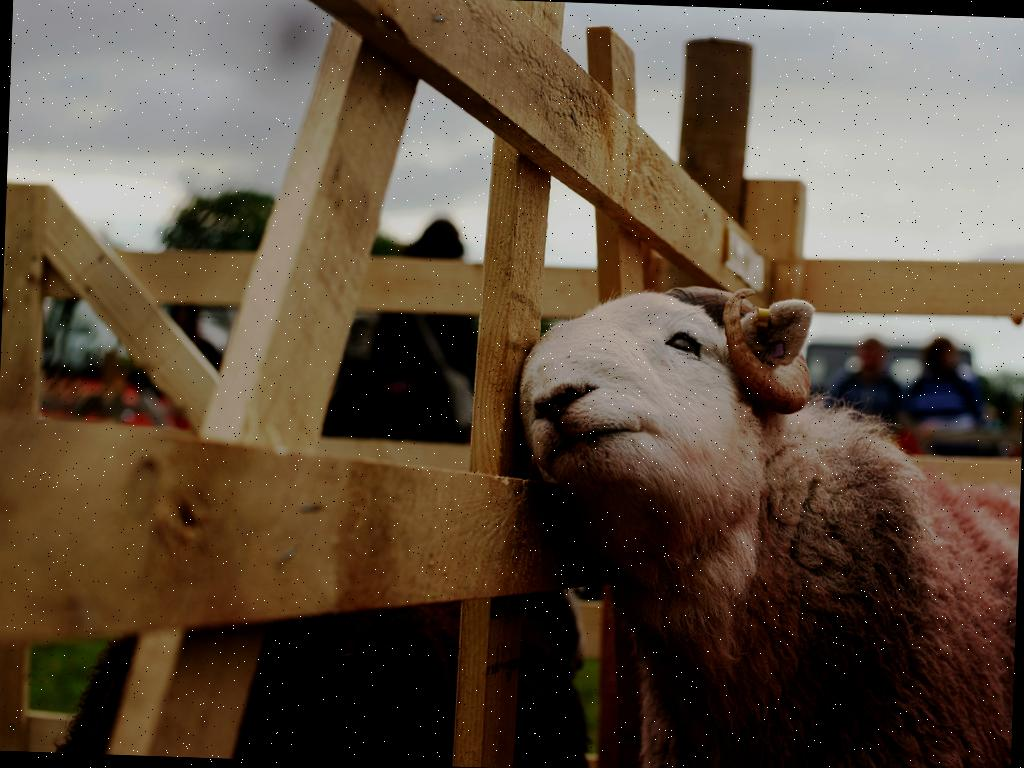Sheep: (506, 278, 1024, 768)
